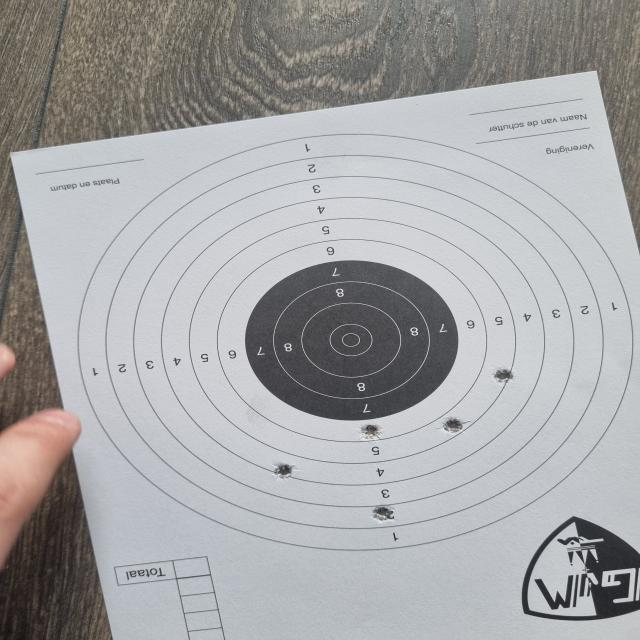2: (371, 504, 396, 522)
4: (273, 463, 300, 479)
5: (436, 417, 471, 433), (493, 368, 514, 384)
6: (358, 424, 384, 440)
Target: (77, 130, 637, 552)
black_contour: (244, 259, 458, 422)
